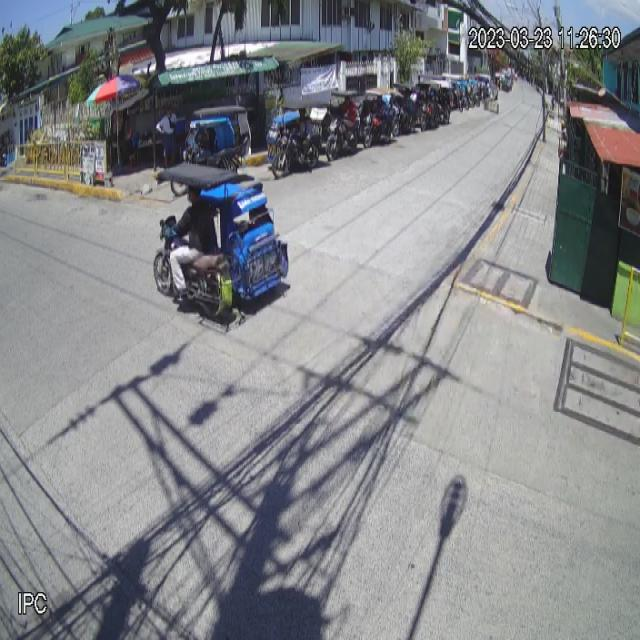Tricycle: (153, 162, 290, 324)
